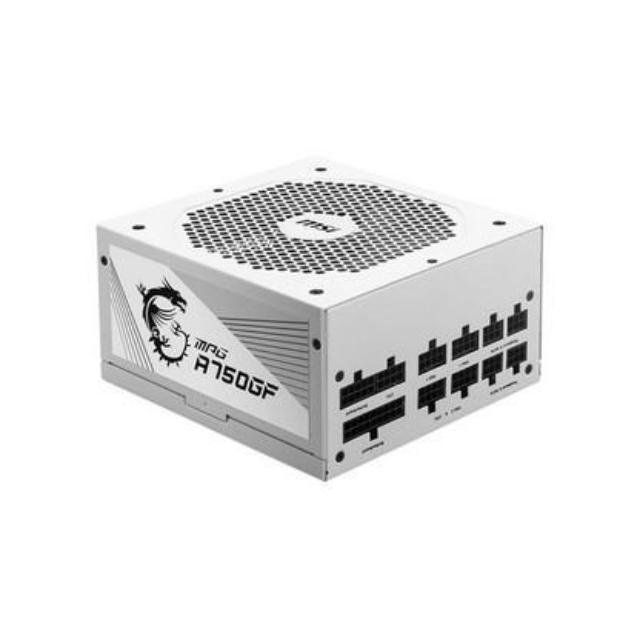PSU: (69, 137, 566, 508)
